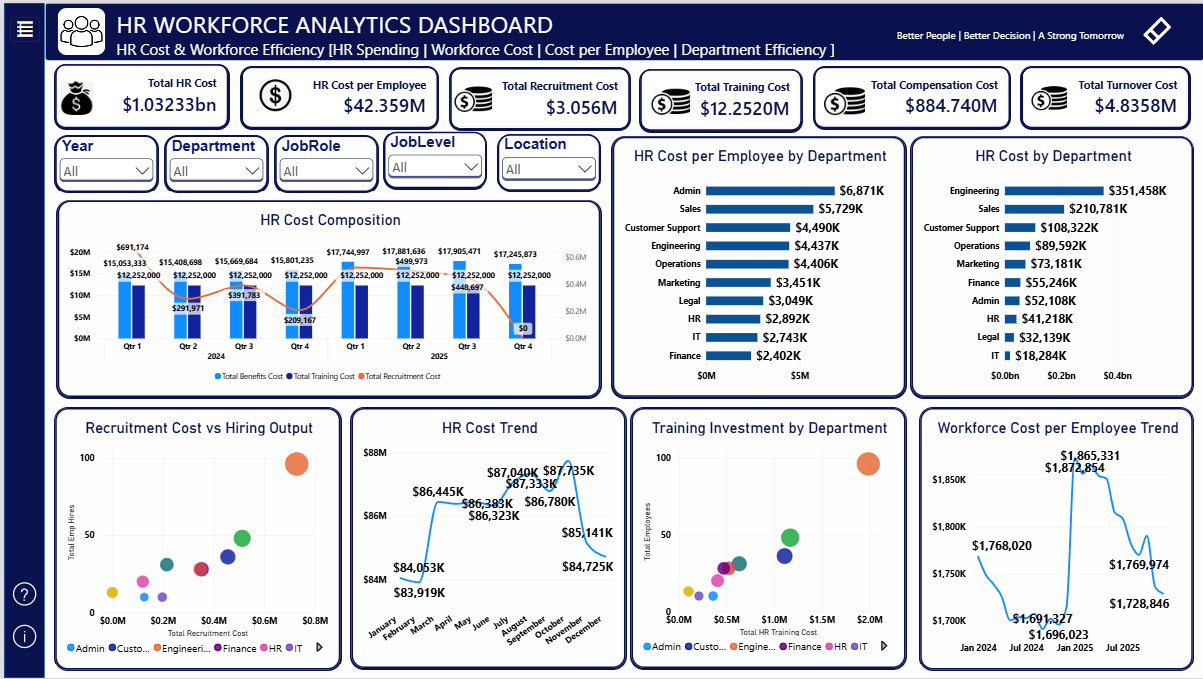

Layout of this report page (visuals, bound fields, positions):
{"tool":"powerbi","page":{"name":"HR Cost & Insights","canvas":[1920,1080],"ordinal":7},"visuals":[{"type":"shape","title":"side corner layout","box":[0,0,65,1080],"z":0,"group":"g10"},{"type":"actionButton","title":"top nav bar","box":[66,0,1854,92],"z":0,"group":"g9"},{"type":"cardVisual","fields":{"Data":["Measures (2).Total HR Cost"]},"box":[82,98,277,102],"z":0,"group":"g4"},{"type":"cardVisual","fields":{"Data":["Measures (2).HR Cost per Employee"]},"box":[380,102,314,98],"z":0,"group":"g6"},{"type":"cardVisual","fields":{"Data":["Measures (2).Total Compensation Cost"]},"box":[1295.2,102,314,98],"z":0,"group":"g2"},{"type":"group","id":"g1","title":"Group 1","box":[1627.6,102,268.8,98],"z":0,"group":"g8"},{"type":"cardVisual","fields":{"Data":["Measures (2).Total Recruitment Cost"]},"box":[716,104.4,287.3,98],"z":0,"group":"g5"},{"type":"cardVisual","fields":{"Data":["Measures (2).Total Training Cost"]},"box":[1017.7,105.4,258.6,98],"z":0,"group":"g3"},{"type":"slicer","fields":{"Values":["DimDate.Year"]},"box":[82,211.7,164.2,90],"z":0,"group":"g7"},{"type":"cardVisual","fields":{"Data":["Measures (2).Total Turnover Cost"]},"box":[1627.6,102,268.8,98],"z":125,"group":"g1"},{"type":"image","box":[1644,120,57.1,64.8],"z":250,"group":"g1"},{"type":"image","box":[1311.6,122,65.7,70],"z":375,"group":"g2"},{"type":"image","title":"people icon","box":[85,7.5,76,75],"z":1000,"group":"g9"},{"type":"group","id":"g2","title":"Group 2","box":[1295.2,102,314,98],"z":1000,"group":"g8"},{"type":"image","box":[90.2,120.3,52.7,64.3],"z":1000,"group":"g4"},{"type":"image","box":[1035,122.6,61.6,68],"z":1000,"group":"g3"},{"type":"image","box":[387.4,122.7,93,51.3],"z":1000,"group":"g6"},{"type":"image","box":[713,123.6,78,60],"z":1000,"group":"g5"},{"type":"slicer","fields":{"Values":["DimEmployee.JobLevel"]},"box":[608.6,206,164.2,90],"z":1000,"group":"g7"},{"type":"actionButton","title":"info","box":[7.5,985,50,50],"z":1000,"group":"g10"},{"type":"actionButton","title":"clear slicer","box":[1794,12,102,66],"z":1500,"group":"g9"},{"type":"textbox","box":[180,7.5,1220,85],"z":2000,"group":"g9"},{"type":"group","id":"g3","title":"Group 1","box":[1017.7,105.4,258.6,98],"z":2000,"group":"g8"},{"type":"slicer","fields":{"Values":["DimEmployee.JobRole"]},"box":[434.9,211.7,164.2,90],"z":2000,"group":"g7"},{"type":"actionButton","title":"help","box":[7.5,917.5,50,50],"z":2000,"group":"g10"},{"type":"textbox","box":[1306,22,486,62],"z":2500,"group":"g9"},{"type":"actionButton","title":"menu Button","box":[10,22.5,47.5,40],"z":3000,"group":"g10"},{"type":"slicer","fields":{"Values":["DimDepartment.Department"]},"box":[257.6,211.7,164.2,90],"z":3000,"group":"g7"},{"type":"lineChart","title":"HR Cost Trend","fields":{"Category":["FactHRCost.Month.Variation.Date Hierarchy.Month"],"Y":["Measures (2).Total HR Cost"]},"box":[556,648,438,416],"z":3000},{"type":"group","id":"g4","title":"Group 1","box":[82,98,279.1,102],"z":4000,"group":"g8"},{"type":"clusteredBarChart","title":"HR Cost by Department","fields":{"Category":["DimDepartment.Department"],"Y":["Measures (2).Total HR Cost"]},"box":[1452,214,450,416],"z":4000},{"type":"group","id":"g5","title":"Group 1","box":[713,104.4,290.2,98],"z":5000,"group":"g8"},{"type":"clusteredBarChart","title":"HR Cost per Employee by Department","fields":{"Category":["DimDepartment.Department"],"Y":["Measures (2).HR Cost per Employee"]},"box":[974,214,468,416],"z":5000},{"type":"slicer","fields":{"Values":["DimEmployee.Location"]},"box":[789.5,210,164.2,90],"z":6000,"group":"g7"},{"type":"lineClusteredColumnComboChart","title":"HR Cost Composition","fields":{"Category":["FactHRCost.Month.Variation.Date Hierarchy.Year","FactHRCost.Month.Variation.Date Hierarchy.Quarter"],"Y":["Measures (2).Total Benefits Cost","Measures (2).Total Training Cost"],"Y2":["Measures (2).Total Recruitment Cost"]},"box":[86,316,868,314],"z":6000},{"type":"group","id":"g6","title":"Group 1","box":[380,102,314,98],"z":7000,"group":"g8"},{"type":"scatterChart","title":"Training Investment by Department","fields":{"Series":["DimDepartment.Department"],"Size":["Measures (2).Total Training Hours"],"X":["Measures (2).Total HR Training Cost"],"Y":["Measures (2).Total Employees"]},"box":[1004,648,438,416],"z":7000},{"type":"scatterChart","title":"Recruitment Cost vs Hiring Output","fields":{"Series":["DimDepartment.Department"],"Size":["Measures (2).Total Applications"],"X":["Measures (2).Total Recruitment Cost"],"Y":["Measures (2).Total Emp Hires"]},"box":[82,648,456,418],"z":8000},{"type":"lineChart","title":"Workforce Cost per Employee Trend","fields":{"Category":["FactHRCost.Month.Variation.Date Hierarchy.Year","FactHRCost.Month.Variation.Date Hierarchy.Month"],"Y":["Measures (2).HR Cost per Employee"]},"box":[1466,648,436,418],"z":9000},{"type":"group","id":"g7","title":"slicers","box":[82,206,872,96],"z":9250},{"type":"group","id":"g8","title":"card","box":[82,98,1814.4,105.4],"z":9500},{"type":"group","id":"g9","title":"top nav bar","box":[66,0,1854,92.5],"z":10000},{"type":"group","id":"g10","title":"menu bar","box":[0,0,65,1080],"z":11000}]}

Visuals, with their boxes in screenshot pixels (x1, y1, x2, y2), scaled from the page's 1920x1080 canvas onto the 1203x679 screenshot:
"side corner layout" shape: (left=0, top=0, right=41, bottom=678)
"top nav bar" actionButton: (left=41, top=0, right=1202, bottom=58)
cardVisual - Measures (2).Total HR Cost: (left=51, top=62, right=225, bottom=126)
cardVisual - Measures (2).HR Cost per Employee: (left=238, top=64, right=435, bottom=126)
cardVisual - Measures (2).Total Compensation Cost: (left=812, top=64, right=1008, bottom=126)
"Group 1" group: (left=1020, top=64, right=1188, bottom=126)
cardVisual - Measures (2).Total Recruitment Cost: (left=449, top=66, right=629, bottom=127)
cardVisual - Measures (2).Total Training Cost: (left=638, top=66, right=800, bottom=128)
slicer - DimDate.Year: (left=51, top=133, right=154, bottom=190)
cardVisual - Measures (2).Total Turnover Cost: (left=1020, top=64, right=1188, bottom=126)
image: (left=1030, top=75, right=1066, bottom=116)
image: (left=822, top=77, right=863, bottom=121)
"people icon" image: (left=53, top=5, right=101, bottom=52)
"Group 2" group: (left=812, top=64, right=1008, bottom=126)
image: (left=57, top=76, right=90, bottom=116)
image: (left=648, top=77, right=687, bottom=120)
image: (left=243, top=77, right=301, bottom=109)
image: (left=447, top=78, right=496, bottom=115)
slicer - DimEmployee.JobLevel: (left=381, top=130, right=484, bottom=186)
"info" actionButton: (left=5, top=619, right=36, bottom=651)
"clear slicer" actionButton: (left=1124, top=8, right=1188, bottom=49)
textbox: (left=113, top=5, right=877, bottom=58)
"Group 1" group: (left=638, top=66, right=800, bottom=128)
slicer - DimEmployee.JobRole: (left=272, top=133, right=375, bottom=190)
"help" actionButton: (left=5, top=577, right=36, bottom=608)
textbox: (left=818, top=14, right=1123, bottom=53)
"menu Button" actionButton: (left=6, top=14, right=36, bottom=39)
slicer - DimDepartment.Department: (left=161, top=133, right=264, bottom=190)
"HR Cost Trend" lineChart: (left=348, top=407, right=623, bottom=669)
"Group 1" group: (left=51, top=62, right=226, bottom=126)
"HR Cost by Department" clusteredBarChart: (left=910, top=135, right=1192, bottom=396)
"Group 1" group: (left=447, top=66, right=629, bottom=127)
"HR Cost per Employee by Department" clusteredBarChart: (left=610, top=135, right=904, bottom=396)
slicer - DimEmployee.Location: (left=495, top=132, right=598, bottom=189)
"HR Cost Composition" lineClusteredColumnComboChart: (left=54, top=199, right=598, bottom=396)
"Group 1" group: (left=238, top=64, right=435, bottom=126)
"Training Investment by Department" scatterChart: (left=629, top=407, right=904, bottom=669)
"Recruitment Cost vs Hiring Output" scatterChart: (left=51, top=407, right=337, bottom=670)
"Workforce Cost per Employee Trend" lineChart: (left=919, top=407, right=1192, bottom=670)
"slicers" group: (left=51, top=130, right=598, bottom=190)
"card" group: (left=51, top=62, right=1188, bottom=128)
"top nav bar" group: (left=41, top=0, right=1202, bottom=58)
"menu bar" group: (left=0, top=0, right=41, bottom=678)
